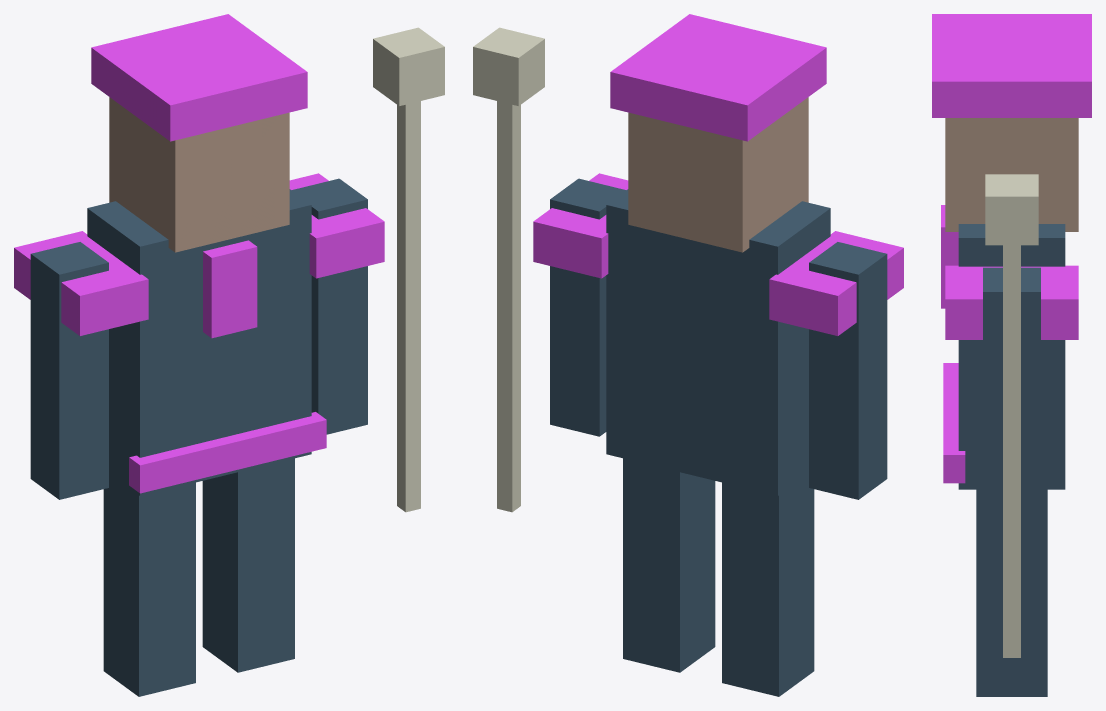
Rendered from 16_orin_rootborne_smith_at_executive.glb.
3 views of the same model, side by side, from view 1: azimuth 30°, elevation 25°; view 2: azimuth 150°, elevation 25°; view 3: azimuth 270°, elevation 25° (orthographic).
Parts seen in each view (by area): view 1: Orin Rootborne, Smith at Executive; view 2: Orin Rootborne, Smith at Executive; view 3: Orin Rootborne, Smith at Executive.
Boxes of the visible parts, x1,y1,x2,y2 form: Orin Rootborne, Smith at Executive: [14, 14, 444, 696]; Orin Rootborne, Smith at Executive: [473, 14, 903, 696]; Orin Rootborne, Smith at Executive: [932, 14, 1091, 696].
Size of the model in its own units: 1.09 by 1.63 by 0.3867.
